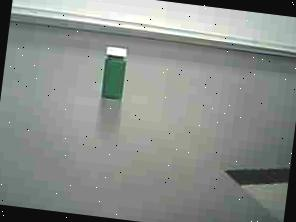Bottle C: (90, 37, 140, 110)
